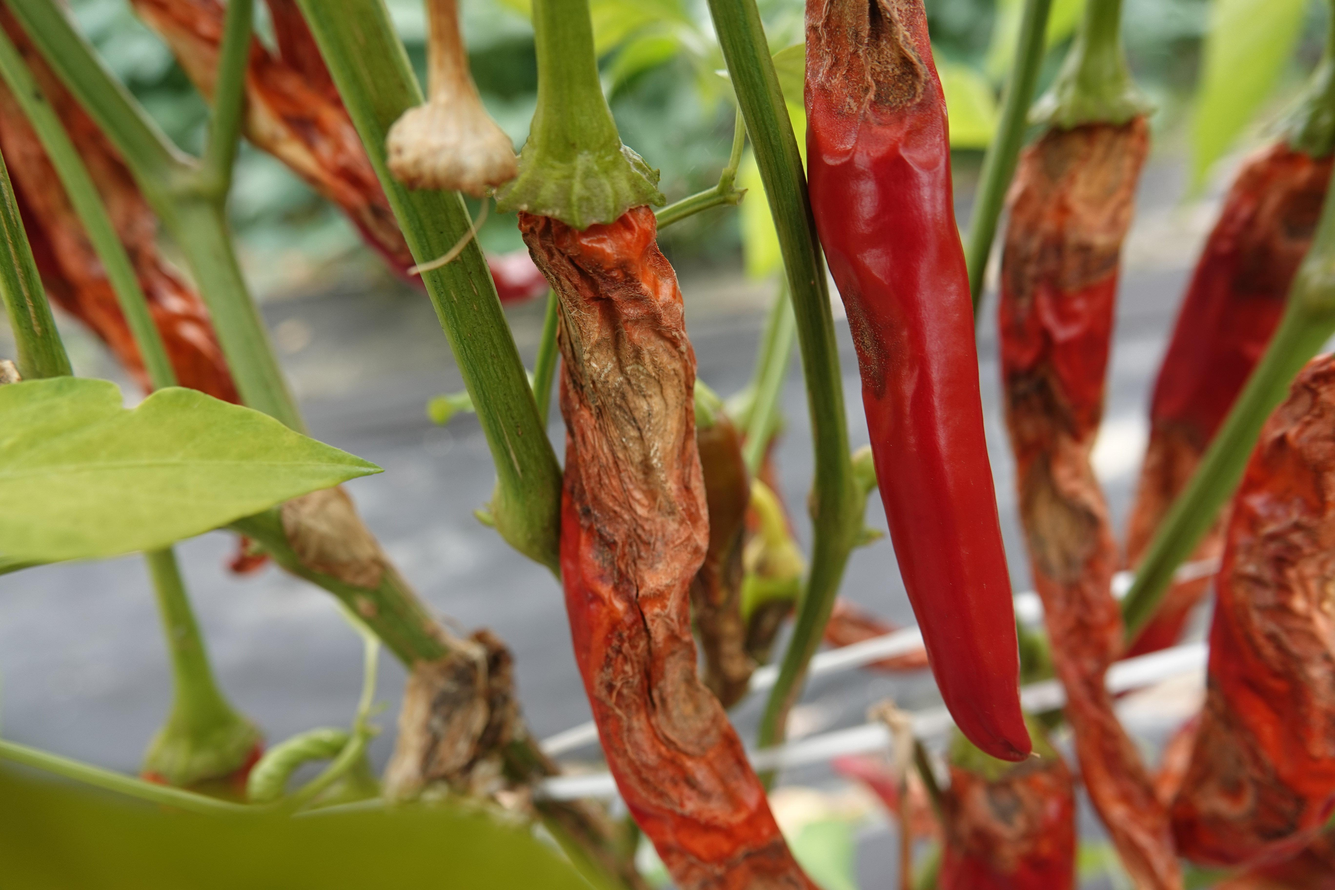Busuk Buah Antraknosa: (512, 152, 834, 890), (799, 0, 1036, 764), (998, 84, 1194, 890), (1208, 337, 1335, 820)
